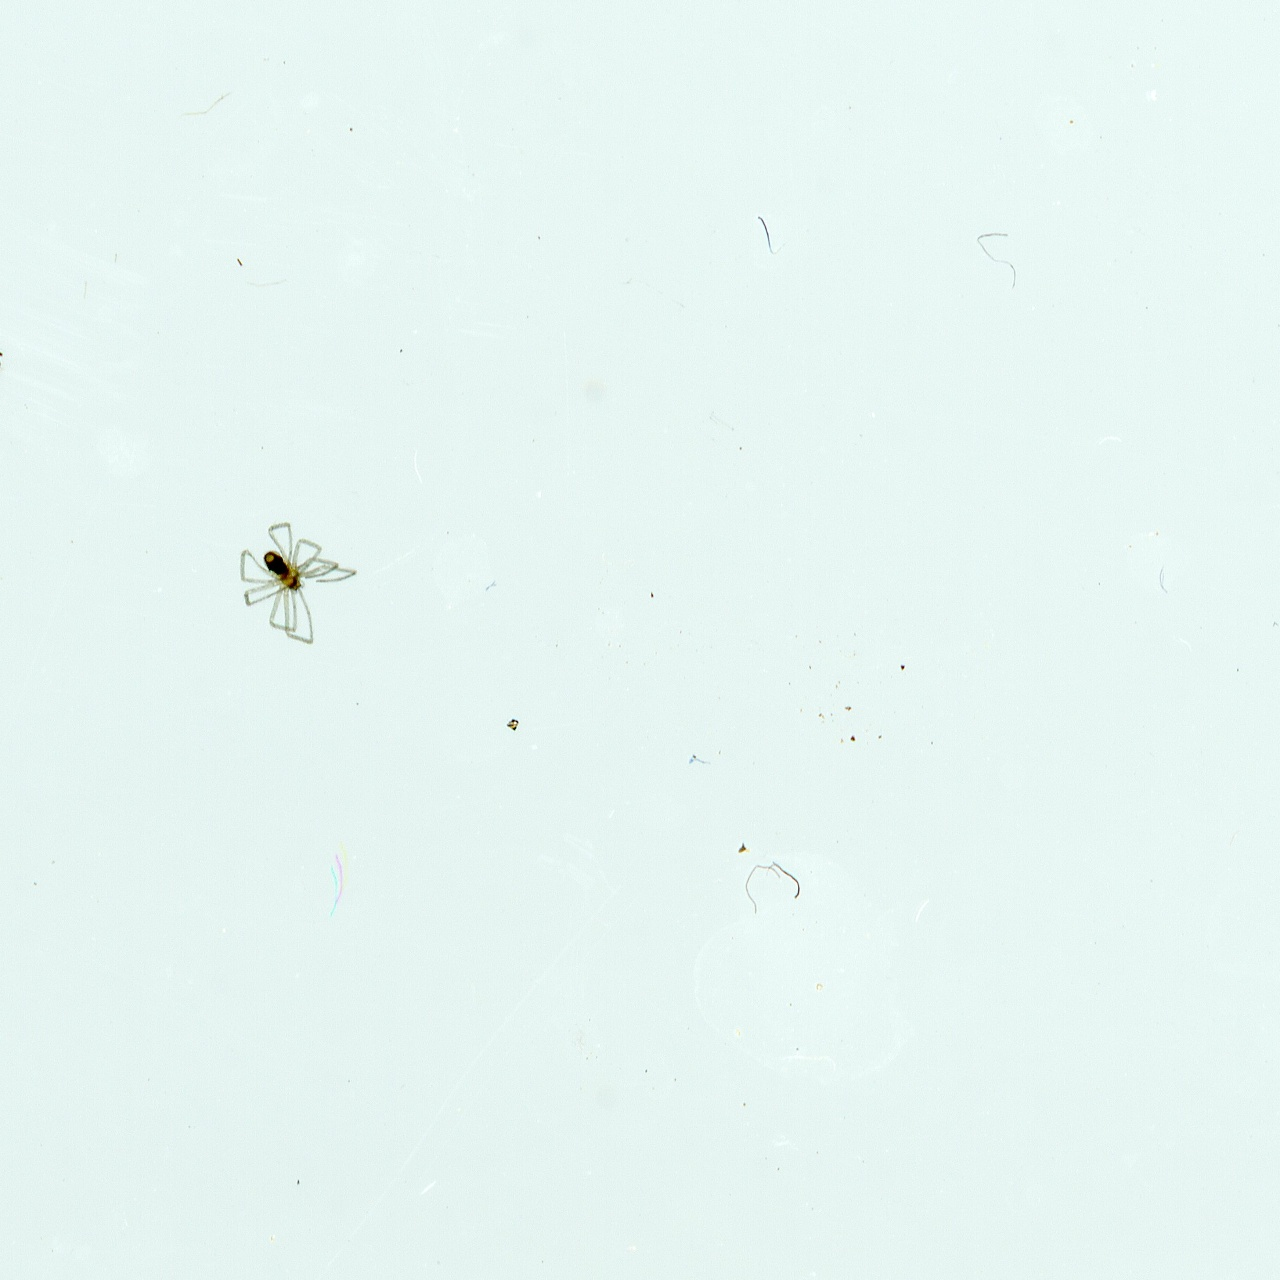arthropod: (238, 520, 359, 646), (0, 330, 8, 386)
